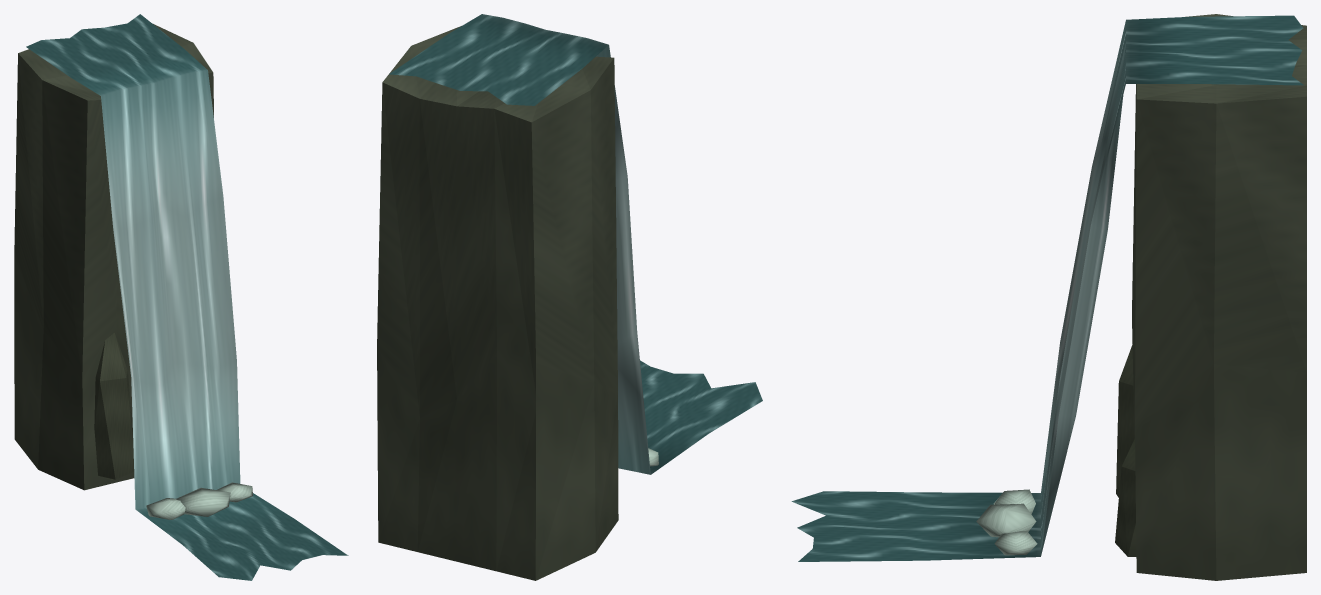
Rendered from fall-narrow-lod1.glb.
3 renders of one model, left to right at view 1: azimuth 30°, elevation 25°; view 2: azimuth 150°, elevation 25°; view 3: azimuth 270°, elevation 25°, orthographic. The views are drawn at different scales.
Size of the model in its own units: 0.4229 by 1 by 0.9697.
1 material, 1 textured.
